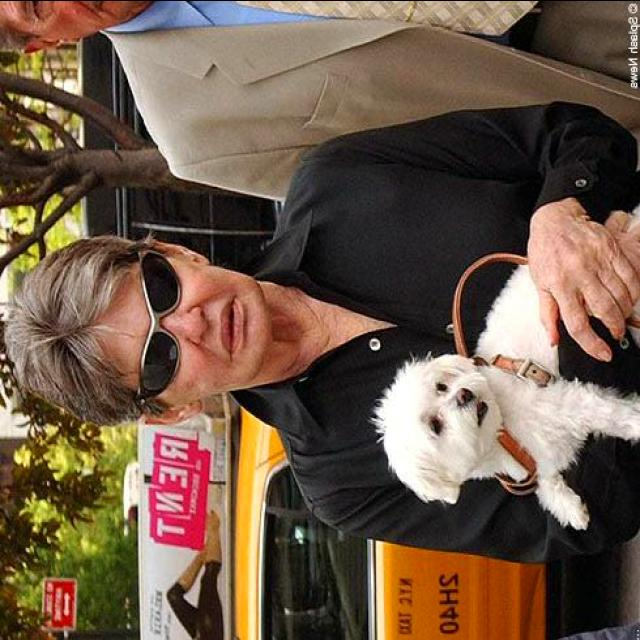maltese_dog: (370, 258, 638, 538)
